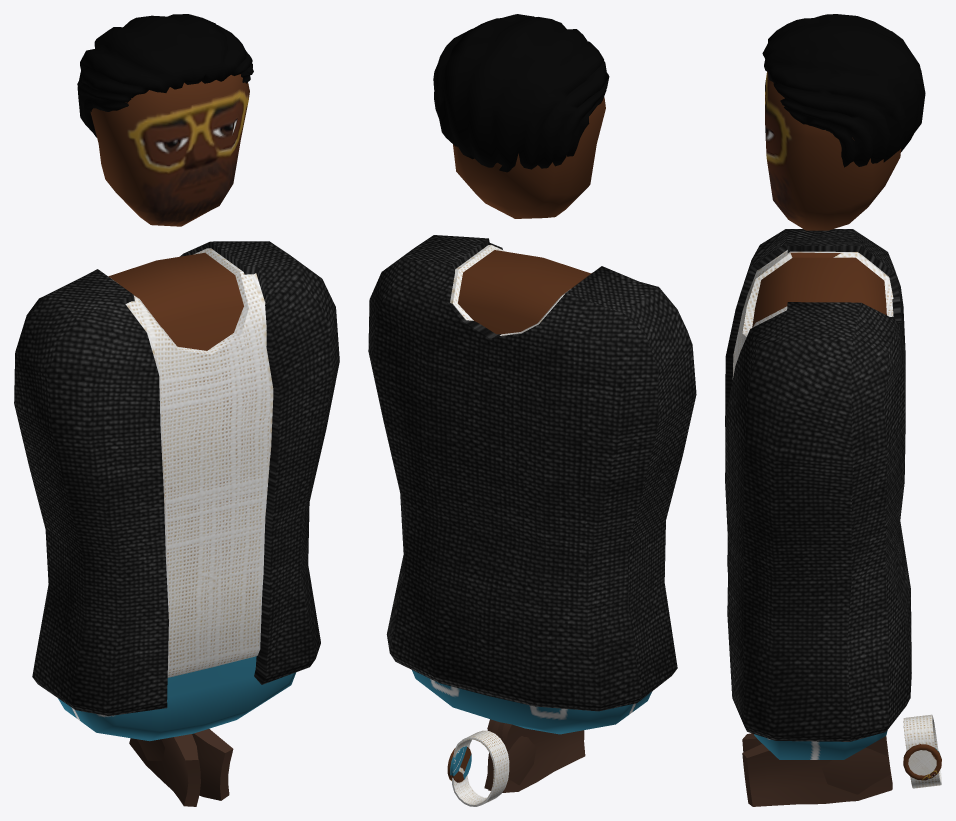
File: Avatar9.fbx
3 renders of one model, left to right at view 1: azimuth 30°, elevation 25°; view 2: azimuth 150°, elevation 25°; view 3: azimuth 270°, elevation 25°, orthographic. The views are drawn at different scales.
Visible parts, largest first — view 1: Jacket9, Body9, Head9, Hair9, HandL, HandR; view 2: Jacket9, Hair9, Body9, Head9, HandL, Watch, HandR; view 3: Jacket9, Hair9, Head9, Body9, HandR, Watch, HandL.
Boxes of the visible parts, <box> form: Jacket9: <box>14,241,339,715</box>; Body9: <box>58,248,296,741</box>; Head9: <box>90,74,249,226</box>; Hair9: <box>77,14,253,137</box>; HandL: <box>129,734,200,806</box>; HandR: <box>137,729,233,800</box>; Jacket9: <box>368,235,696,711</box>; Hair9: <box>433,14,609,172</box>; Body9: <box>412,245,652,734</box>; Head9: <box>453,97,605,218</box>; HandL: <box>487,721,585,792</box>; Watch: <box>447,730,509,806</box>; HandR: <box>484,719,536,792</box>; Jacket9: <box>725,229,911,741</box>; Hair9: <box>762,14,925,167</box>; Head9: <box>765,71,901,230</box>; Body9: <box>732,250,893,759</box>; HandR: <box>742,736,892,806</box>; Watch: <box>903,714,941,788</box>; HandL: <box>742,733,892,801</box>.
Size of the model in its own units: 50.44 by 126 by 32.
Materials: 4 (2 with a texture image).
